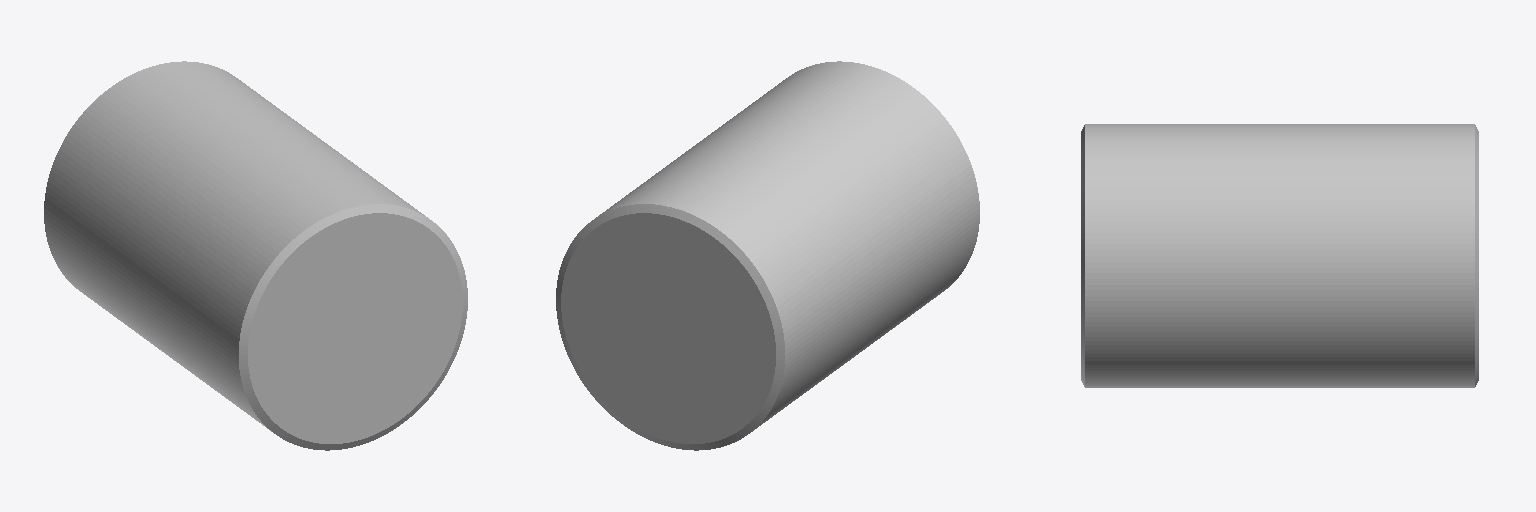
Rendered from yellow_round_peg_2in2.obj.
3 views of the same model, side by side, from view 1: azimuth 30°, elevation 25°; view 2: azimuth 150°, elevation 25°; view 3: azimuth 270°, elevation 25° (orthographic).
Parts seen in each view (by area): view 1: mesh0; view 2: mesh0; view 3: mesh0.
Part boxes in pixels (x1,y1,x2,y2): mesh0: (44,61,467,450); mesh0: (556,61,979,450); mesh0: (1081,124,1478,387).
Bounding box in the file's own units: 0.0508 × 0.0508 × 0.0762.